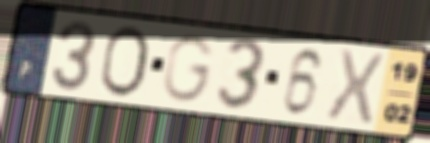3: (214, 37, 270, 112), (49, 18, 97, 93)
6: (283, 45, 324, 118)
G: (161, 32, 219, 105)
O: (96, 23, 152, 100)
X: (322, 46, 388, 127)
